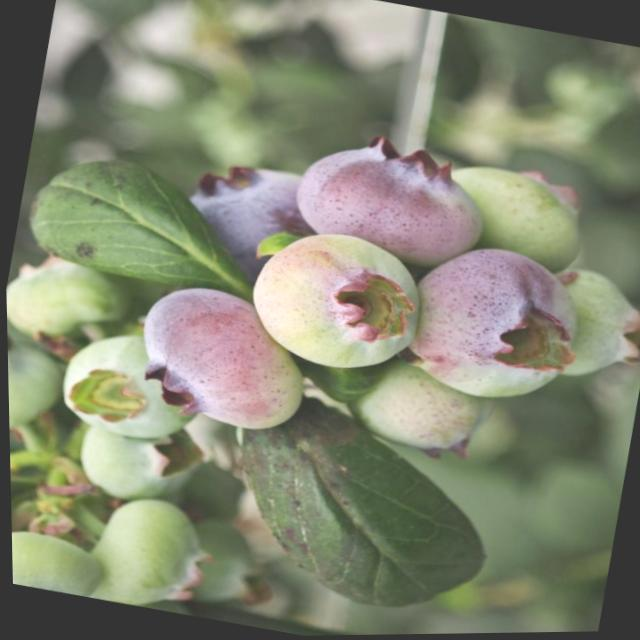Semi-RipeBlueBerry: (236, 217, 436, 384), (121, 279, 316, 442), (404, 234, 578, 404), (286, 131, 492, 269)
